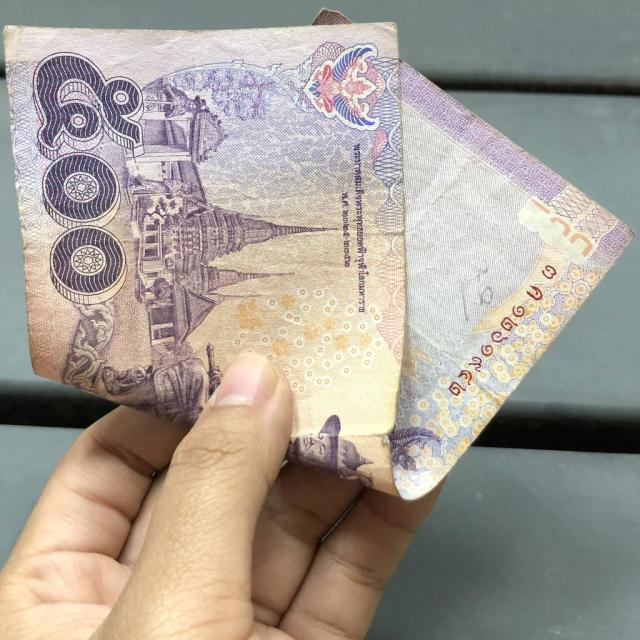THAI500: (4, 11, 631, 500)
